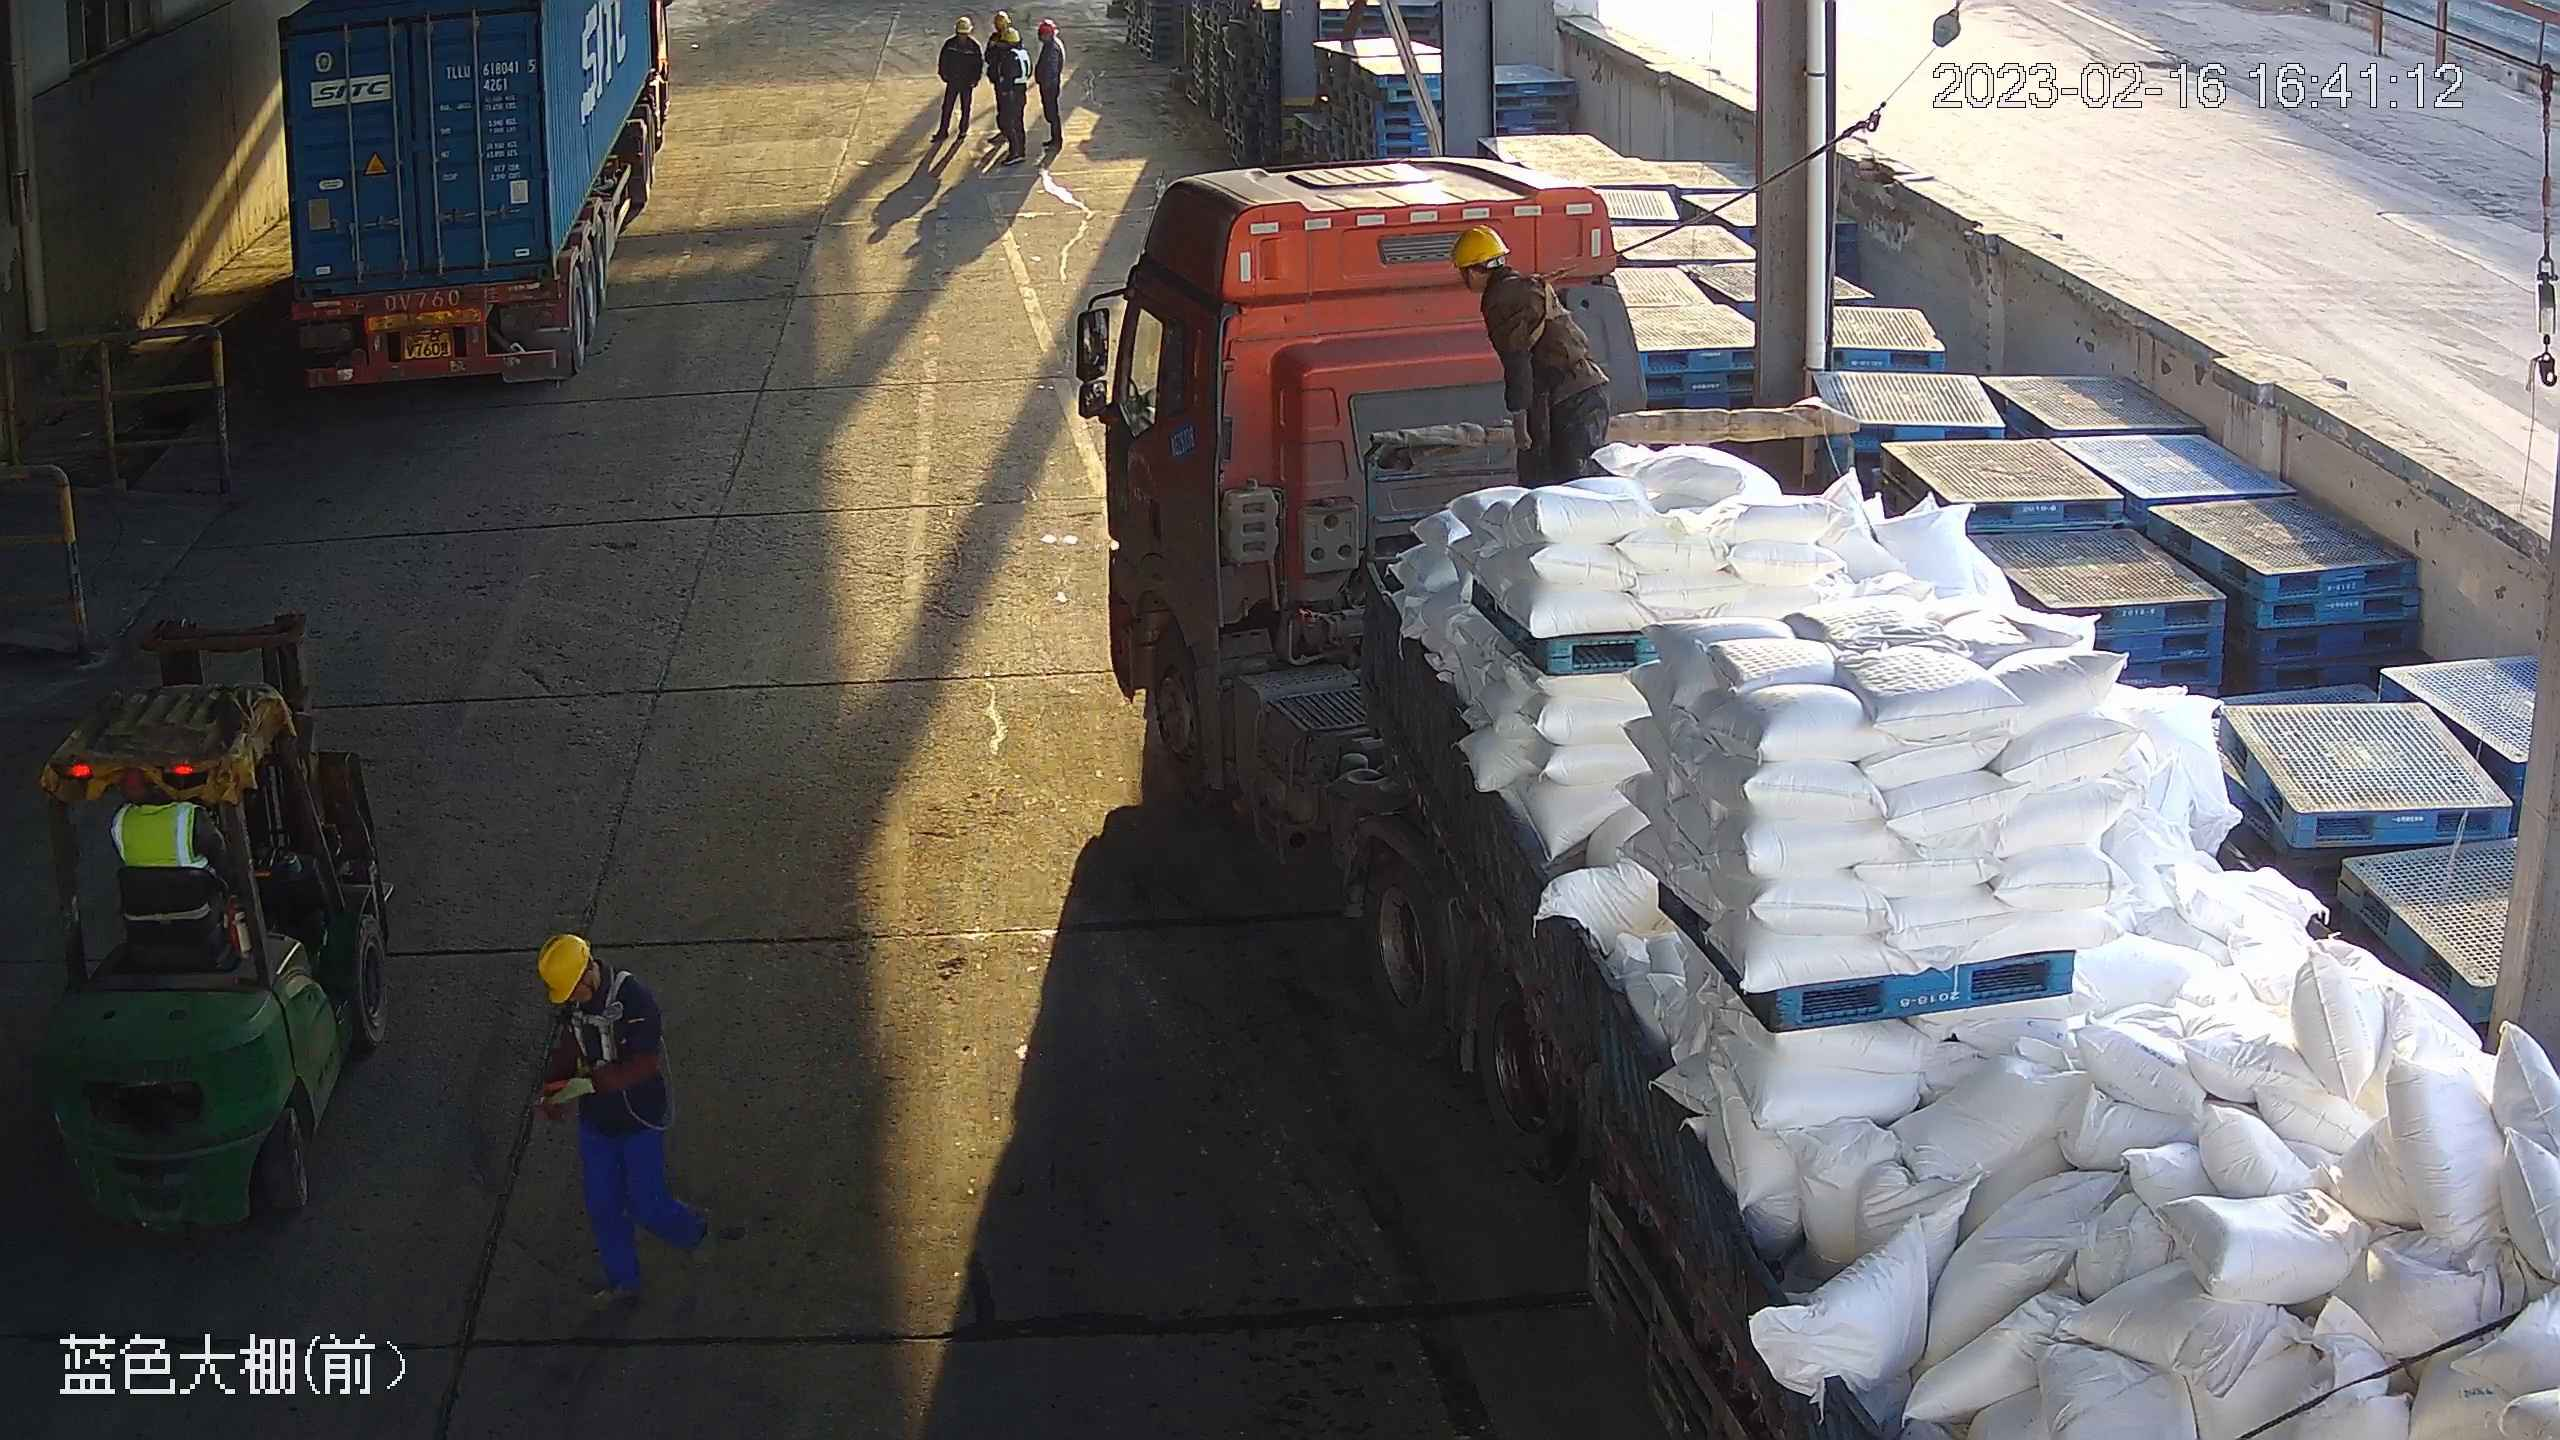belt: (1521, 257, 1573, 344)
head: (1456, 225, 1587, 368), (539, 932, 663, 1066), (994, 27, 1031, 74), (938, 17, 983, 55), (1033, 19, 1065, 64)
helmet: (534, 931, 593, 1007), (1454, 223, 1508, 270), (1002, 27, 1021, 43), (1038, 20, 1058, 34), (955, 17, 972, 34), (993, 11, 1010, 27)
people: (537, 931, 750, 1310), (1452, 225, 1610, 484), (932, 16, 984, 142), (994, 28, 1030, 166), (1035, 18, 1065, 148)
truck: (1069, 149, 2560, 1440), (264, 1, 675, 401)
